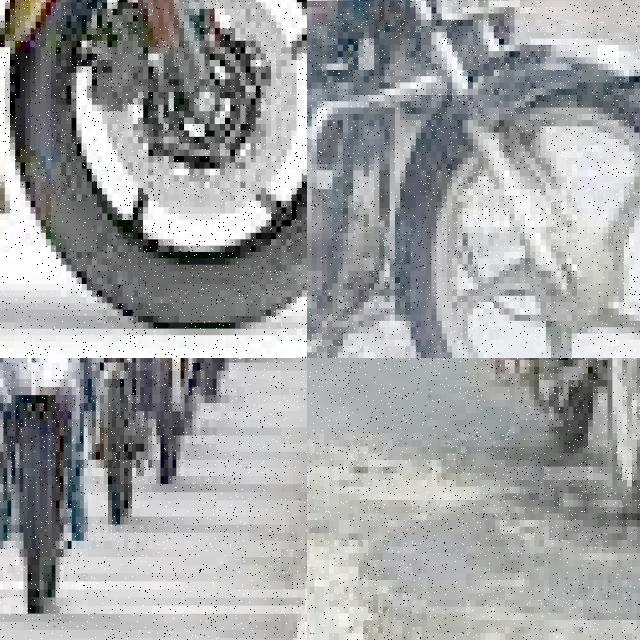bike: (307, 0, 640, 358), (0, 0, 307, 354), (422, 358, 640, 533), (0, 358, 91, 613), (91, 358, 144, 557), (152, 358, 200, 484)
